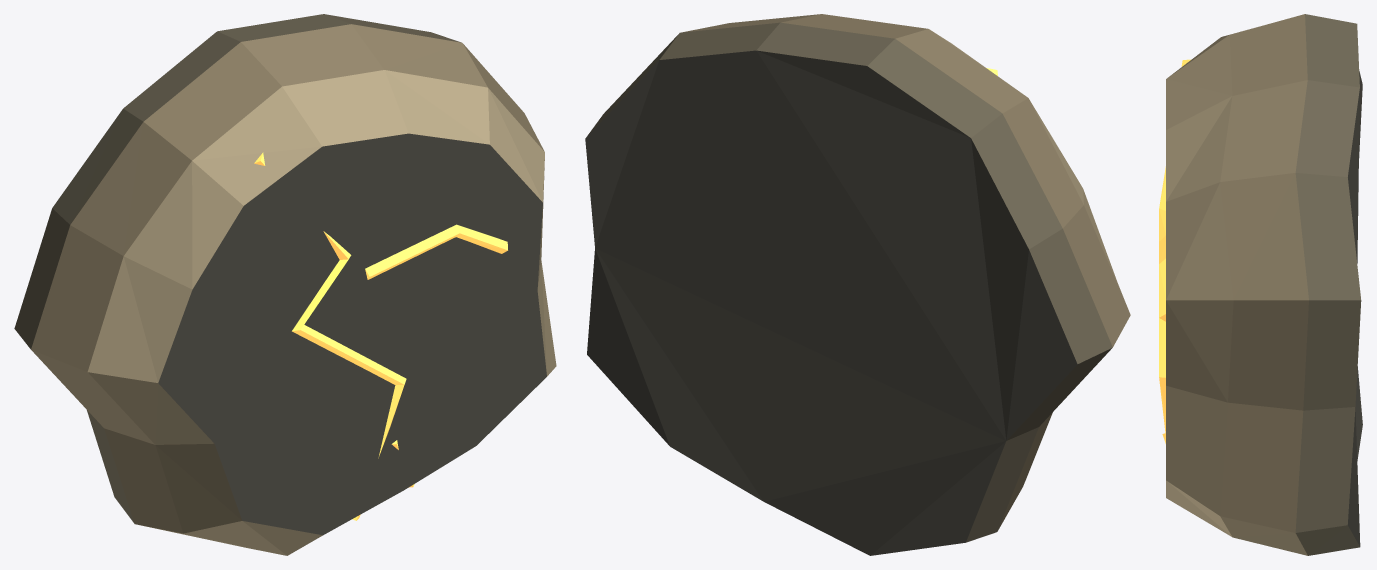
The model's file is FERNSTONE_ROCK.lo.glb.
The picture shows the model from 3 angles, left to right: view 1: azimuth 30°, elevation 25°; view 2: azimuth 150°, elevation 25°; view 3: azimuth 270°, elevation 25°; orthographic projection.
Parts seen in each view (by area): view 1: Body_Mesh; view 2: Body_Mesh; view 3: Body_Mesh.
Part boxes in pixels (left/top/right/bottom): Body_Mesh: left=14, top=14, right=556, bottom=555; Body_Mesh: left=585, top=14, right=1130, bottom=555; Body_Mesh: left=1159, top=14, right=1362, bottom=555.
Bounding box in the file's own units: 0.3054 × 0.2919 × 0.1054.
1 material, 1 textured.
